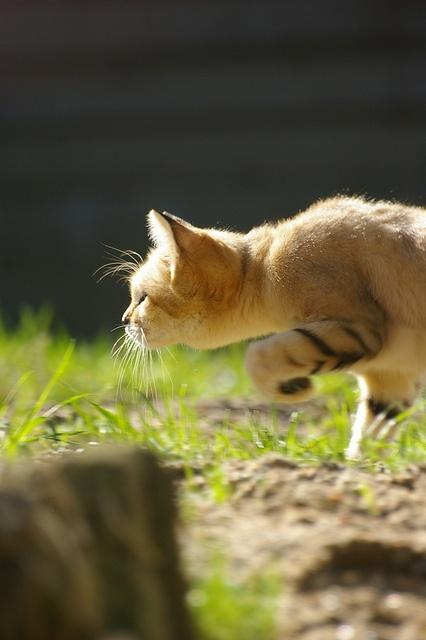kedo: (112, 192, 426, 437)
